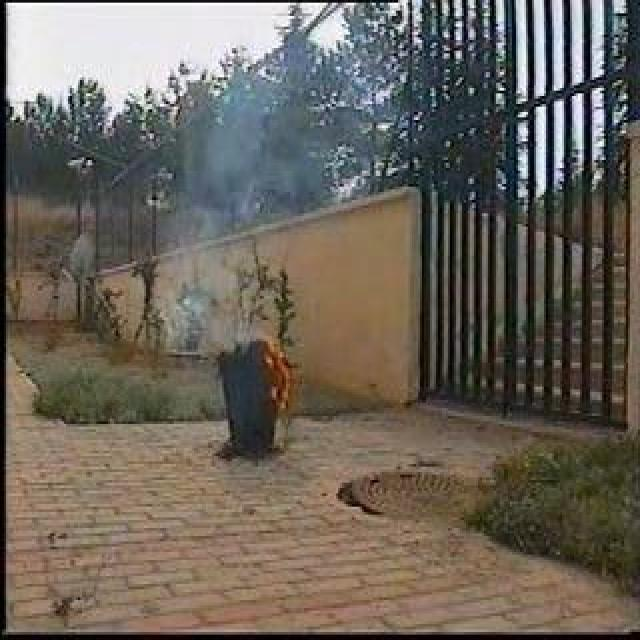fire: (271, 340, 295, 412)
smoke: (170, 100, 250, 343)
